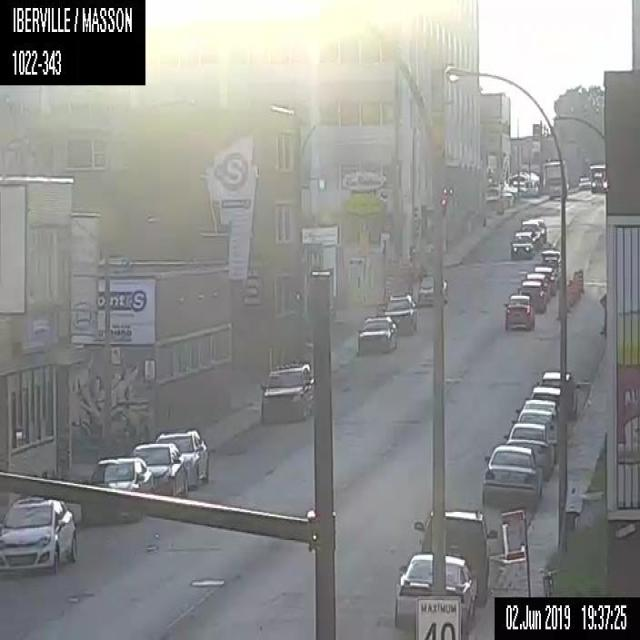construction: (568, 279, 574, 305), (578, 268, 583, 290)
vehicle: (412, 509, 496, 606), (392, 550, 478, 638), (0, 495, 78, 572), (79, 455, 154, 525), (482, 442, 543, 508), (150, 428, 210, 490), (259, 359, 312, 425), (130, 442, 187, 498), (502, 421, 554, 478), (539, 368, 577, 416), (356, 316, 396, 353), (383, 291, 416, 332), (503, 290, 535, 330), (417, 273, 447, 307), (543, 160, 569, 199), (518, 279, 546, 312), (508, 228, 534, 262), (515, 408, 556, 426), (589, 160, 608, 194), (527, 381, 560, 400), (520, 219, 540, 249), (521, 397, 558, 411), (536, 218, 548, 244), (533, 264, 554, 276), (525, 272, 547, 282), (578, 175, 590, 192)
